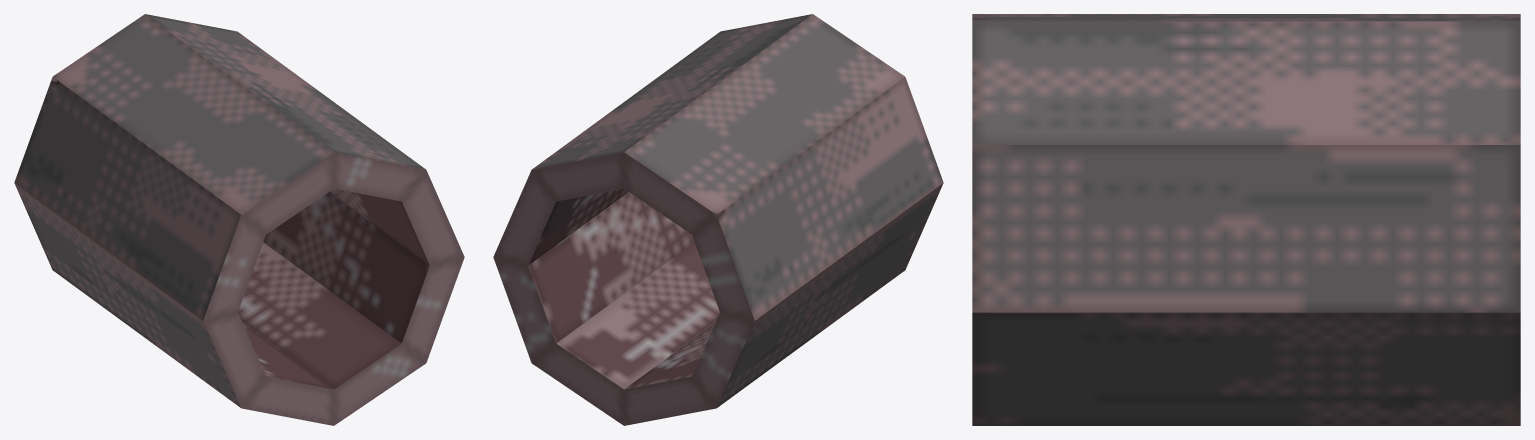
File: Back_Pipe_Straight.obj
The picture shows the model from 3 angles, left to right: view 1: azimuth 30°, elevation 25°; view 2: azimuth 150°, elevation 25°; view 3: azimuth 270°, elevation 25°; orthographic projection. The views are drawn at different scales.
Visible parts, largest first — view 1: rura_prosta; view 2: rura_prosta; view 3: rura_prosta.
Part boxes in pixels (left/top/right/bottom): rura_prosta: left=14, top=14, right=464, bottom=425; rura_prosta: left=493, top=14, right=943, bottom=425; rura_prosta: left=972, top=14, right=1520, bottom=425.
Size of the model in its own units: 0.4 by 0.4 by 0.5.
1 material, 1 textured.
